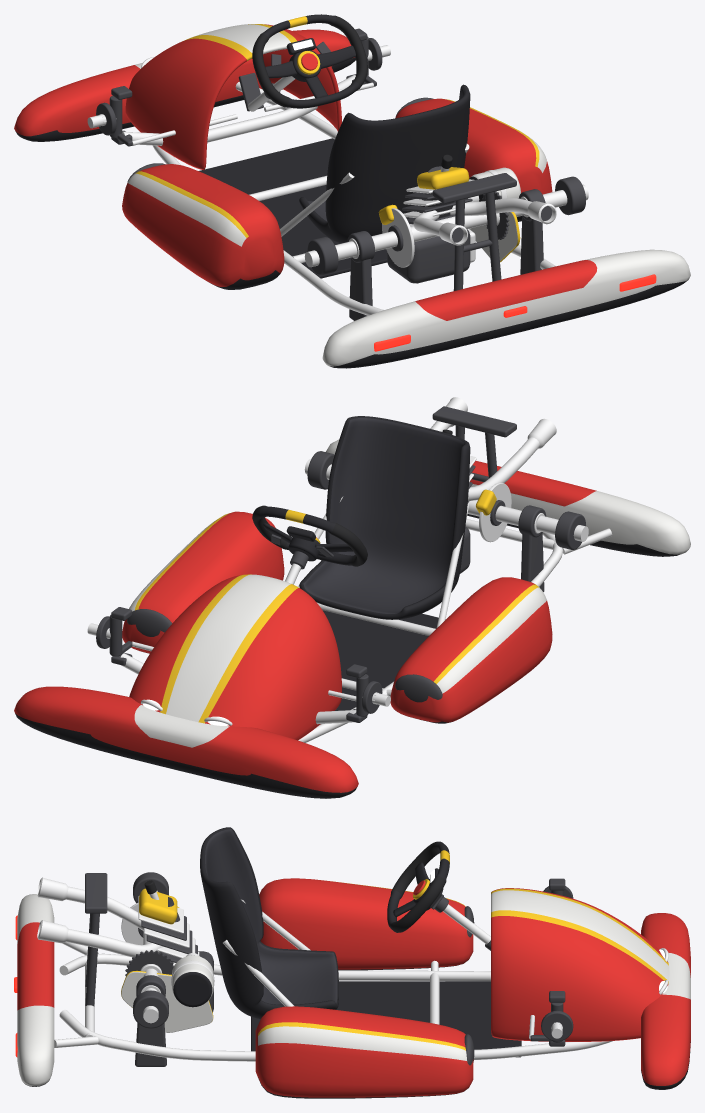
Rendered from body_vortex.glb.
3 renders of one model, top to bottom at view 1: azimuth 30°, elevation 25°; view 2: azimuth 150°, elevation 25°; view 3: azimuth 270°, elevation 25°, orthographic. The views are drawn at different scales.
Parts seen in each view (by area): view 1: body_vortex, steering_wheel; view 2: body_vortex, steering_wheel; view 3: body_vortex, steering_wheel.
Boxes of the visible parts, x1,y1,x2,y2 form: body_vortex: (14, 24, 690, 368); steering_wheel: (252, 14, 367, 108); body_vortex: (14, 397, 690, 798); steering_wheel: (252, 505, 367, 566); body_vortex: (14, 827, 690, 1098); steering_wheel: (387, 841, 449, 932).
Size of the model in its own units: 1.28 by 0.5822 by 2.1.
